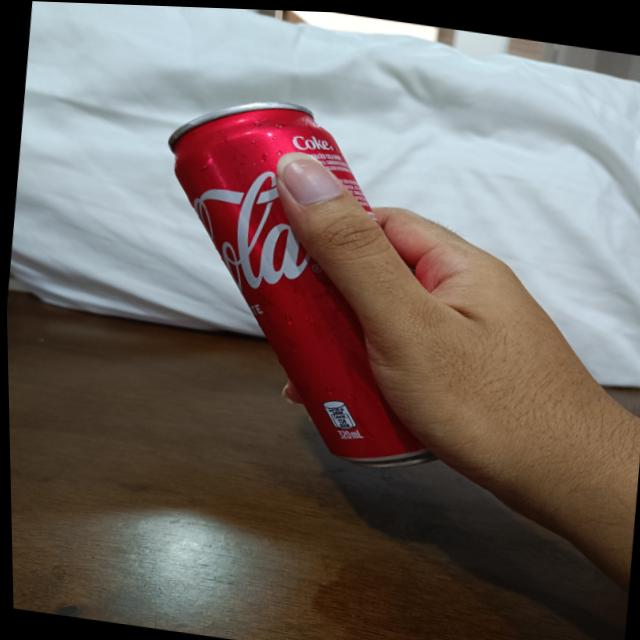coke: (137, 82, 476, 473)
